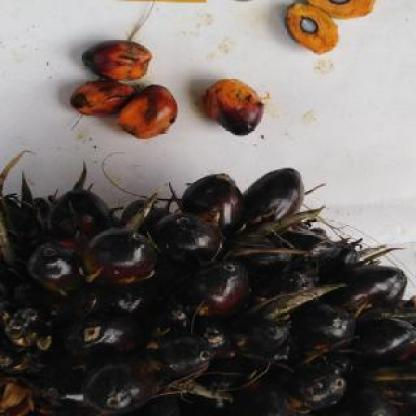Unripe: (0, 174, 416, 416)
